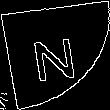N_N: (28, 27, 82, 83)
